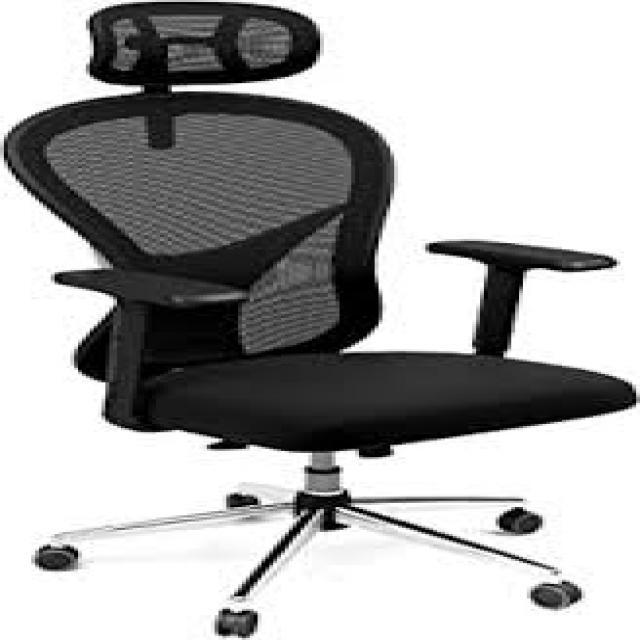chair: (10, 3, 605, 636)
